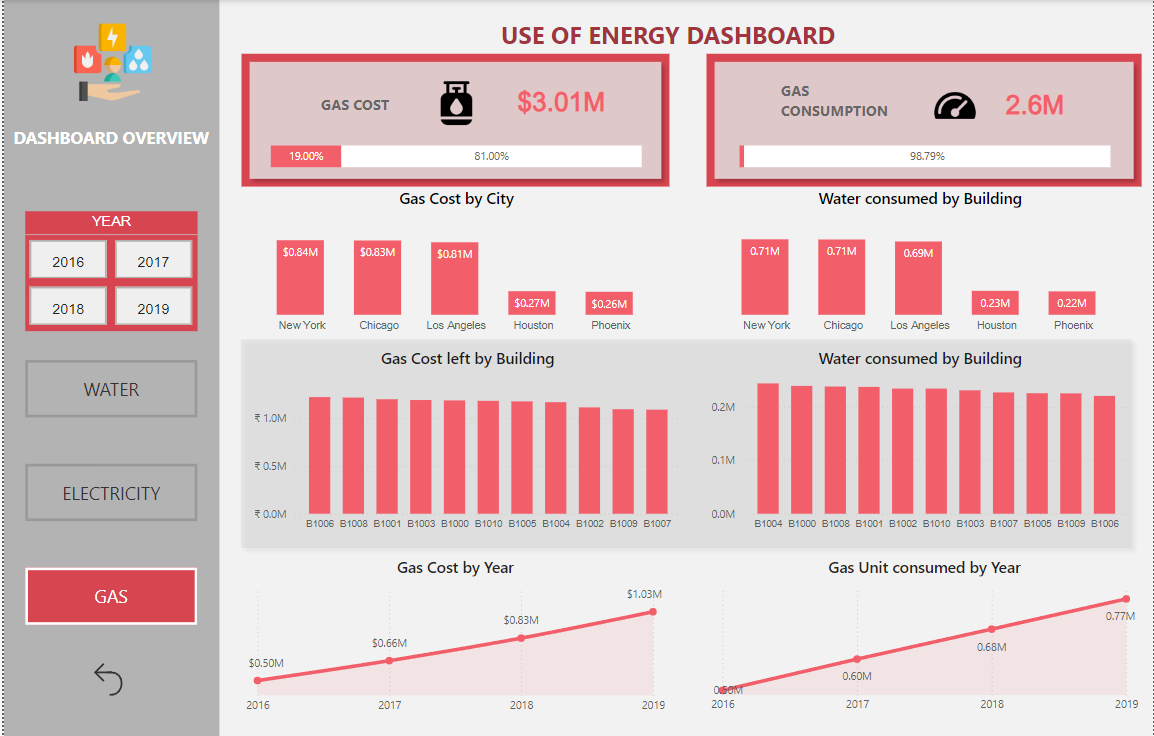

The dashboard page shown, as its layout file describes it:
{"tool":"powerbi","page":{"name":"GAS","canvas":[1280,820],"ordinal":3},"visuals":[{"type":"shape","title":"Total Cost","box":[782.9,60.4,484.9,148.3],"z":0},{"type":"shape","title":"Total Cost","box":[265.1,60.4,476.6,148.3],"z":1000},{"type":"shape","box":[254.8,368.9,1010.7,250.6],"z":2000},{"type":"shape","box":[0,0,240.4,820],"z":3000},{"type":"image","box":[66.3,15.7,108.5,108.5],"z":4000},{"type":"areaChart","fields":{"Category":["Energy Consumptions.Year"],"Y":["All Measures.Gas Cost"]},"box":[265.1,619.5,476.6,184.1],"z":5000},{"type":"areaChart","fields":{"Category":["Energy Consumptions.Year"],"Y":["All Measures.Gas Unit consumed"]},"box":[782.4,619.5,485.9,183.8],"z":6000},{"type":"columnChart","fields":{"Category":["Energy Consumptions.Building"],"Y":["All Measures.Gas Cost left"]},"box":[272.9,387,487.3,214.4],"z":7000},{"type":"clusteredColumnChart","title":"Water consumed by Building","fields":{"Category":["Energy Consumptions.Building"],"Y":["All Measures.Gas Unit consumed"]},"box":[782.4,387,476.1,214.4],"z":8000},{"type":"columnChart","fields":{"Category":["Building Master.City"],"Y":["All Measures.Gas Cost"]},"box":[264.5,208.8,478.9,172],"z":9000},{"type":"clusteredColumnChart","title":"Water consumed by Building","fields":{"Category":["Building Master.City"],"Y":["All Measures.Gas Unit consumed"]},"box":[782.4,208.8,476.1,172],"z":10000},{"type":"card","fields":{"Values":["All Measures.Gas Cost"]},"box":[501.2,75.2,239.5,76.6],"z":11000},{"type":"card","fields":{"Values":["All Measures.Gas Unit consumed"]},"box":[1028.8,78,239.5,76.6],"z":12000},{"type":"hundredPercentStackedBarChart","fields":{"Y":["All Measures.Gas Cost","All Measures.Gas Cost left"]},"box":[292.4,116.9,423.2,108.6],"z":13000},{"type":"hundredPercentStackedBarChart","fields":{"Y":["All Measures.Gas Unit consumed","All Measures.Gas Unit consumed left"]},"box":[814.4,116.9,423.2,108.6],"z":14000},{"type":"textbox","box":[348,100.2,185.2,45.9],"z":15000},{"type":"textbox","box":[860.4,84.9,187.9,64],"z":16000},{"type":"textbox","box":[548.7,15.3,433.1,62.7],"z":17000},{"type":"textbox","box":[5.6,135,235.3,69.6],"z":18000},{"type":"image","box":[474.7,84.9,58.5,59.9],"z":19000},{"type":"image","box":[1028.8,86.3,61.3,62.6],"z":20000},{"type":"actionButton","box":[23.2,401.1,191.8,63.9],"z":21000},{"type":"actionButton","box":[23.2,516.9,191.8,63.9],"z":22000},{"type":"actionButton","box":[23.2,632.7,191.8,63.9],"z":23000},{"type":"actionButton","box":[91.9,732.3,64,48.7],"z":24000},{"type":"advancedSlicerVisual","title":"YEAR","fields":{"Values":["Energy Consumptions.Year"]},"box":[23.7,235.3,192.1,133.7],"z":25000}]}

Visuals, with their boxes on the page's 1280x820 design canvas (x1, y1, x2, y2). These are canvas units, not pixel positions in the 1154x736 screenshot, which may show the page scaled, cropped or inside an application window:
"Total Cost" shape: <region>783, 60, 1268, 209</region>
"Total Cost" shape: <region>265, 60, 742, 209</region>
shape: <region>255, 369, 1266, 620</region>
shape: <region>0, 0, 240, 820</region>
image: <region>66, 16, 175, 124</region>
areaChart - Energy Consumptions.Year x All Measures.Gas Cost: <region>265, 620, 742, 804</region>
areaChart - Energy Consumptions.Year x All Measures.Gas Unit consumed: <region>782, 620, 1268, 803</region>
columnChart - Energy Consumptions.Building x All Measures.Gas Cost left: <region>273, 387, 760, 601</region>
"Water consumed by Building" clusteredColumnChart: <region>782, 387, 1258, 601</region>
columnChart - Building Master.City x All Measures.Gas Cost: <region>264, 209, 743, 381</region>
"Water consumed by Building" clusteredColumnChart: <region>782, 209, 1258, 381</region>
card - All Measures.Gas Cost: <region>501, 75, 741, 152</region>
card - All Measures.Gas Unit consumed: <region>1029, 78, 1268, 155</region>
hundredPercentStackedBarChart - All Measures.Gas Cost x All Measures.Gas Cost left: <region>292, 117, 716, 226</region>
hundredPercentStackedBarChart - All Measures.Gas Unit consumed x All Measures.Gas Unit consumed left: <region>814, 117, 1238, 226</region>
textbox: <region>348, 100, 533, 146</region>
textbox: <region>860, 85, 1048, 149</region>
textbox: <region>549, 15, 982, 78</region>
textbox: <region>6, 135, 241, 205</region>
image: <region>475, 85, 533, 145</region>
image: <region>1029, 86, 1090, 149</region>
actionButton: <region>23, 401, 215, 465</region>
actionButton: <region>23, 517, 215, 581</region>
actionButton: <region>23, 633, 215, 697</region>
actionButton: <region>92, 732, 156, 781</region>
"YEAR" advancedSlicerVisual: <region>24, 235, 216, 369</region>
